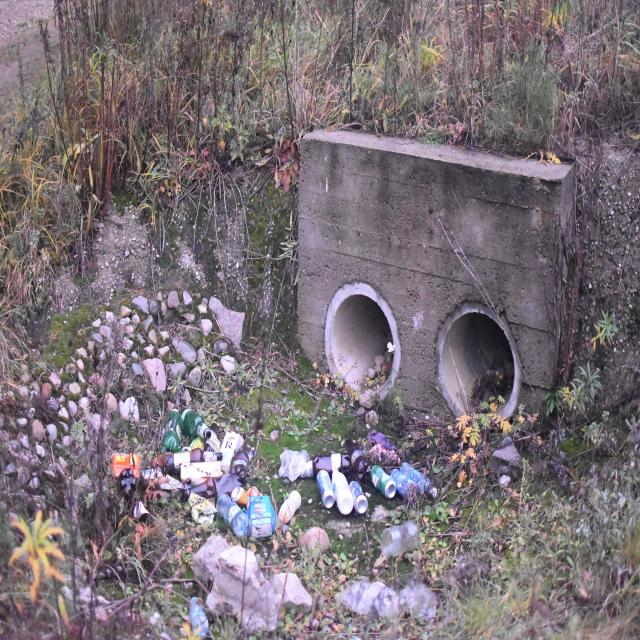lixo domiciliar: (337, 580, 402, 615), (400, 579, 446, 625), (214, 493, 254, 538), (246, 486, 278, 538), (379, 521, 420, 560), (176, 458, 228, 486), (279, 451, 316, 484), (156, 448, 208, 471), (404, 461, 436, 498), (216, 433, 247, 470), (146, 470, 182, 500), (371, 431, 401, 467), (158, 410, 183, 453), (113, 451, 144, 485), (348, 437, 371, 482), (189, 596, 213, 638), (276, 490, 302, 528), (181, 409, 209, 442), (389, 468, 416, 500), (133, 498, 163, 526), (315, 452, 346, 478), (372, 466, 396, 499), (230, 444, 250, 482), (316, 469, 335, 508), (348, 480, 368, 515), (150, 446, 172, 472), (118, 466, 135, 498), (232, 486, 254, 506), (220, 356, 237, 374), (499, 474, 511, 487), (269, 429, 279, 442), (247, 448, 255, 461)
